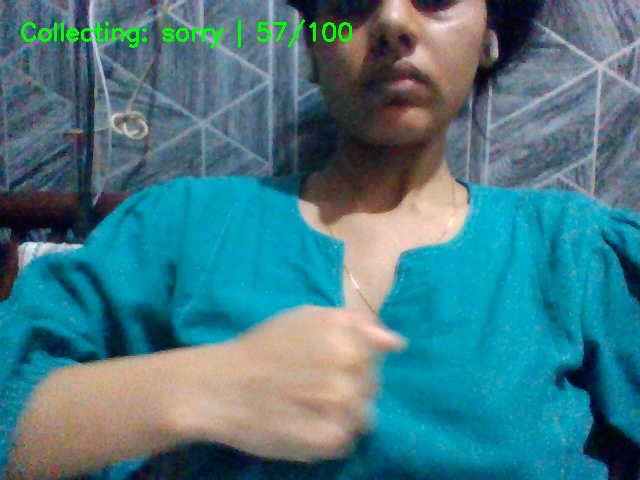sorry: (178, 285, 423, 480)
